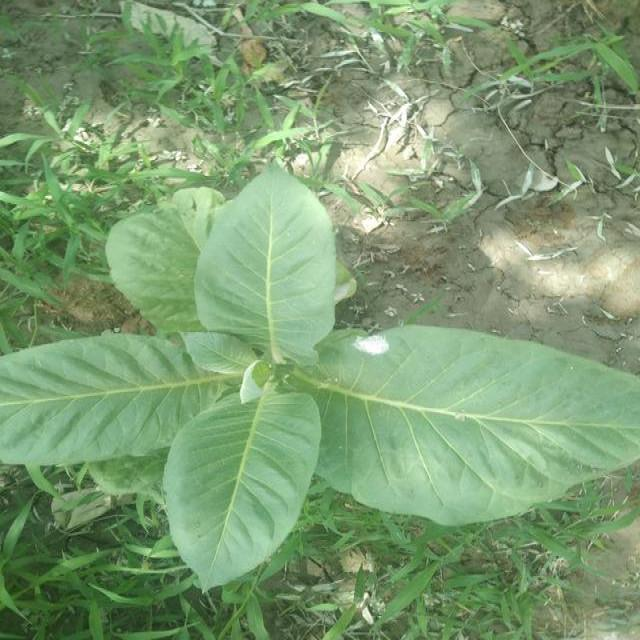crop: (0, 190, 640, 574)
